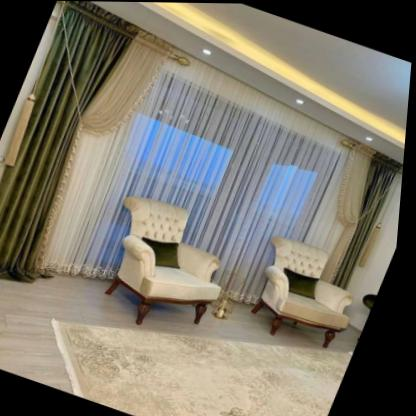Chair: (83, 188, 259, 352), (238, 225, 382, 359)
Curtains: (0, 1, 406, 303)
Wooden floor: (0, 276, 328, 394)
